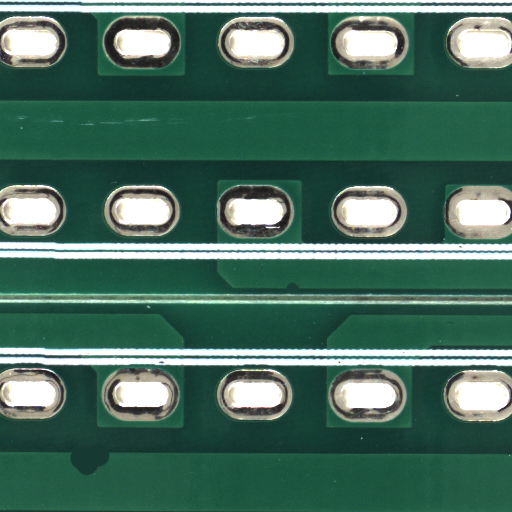Mouse_bite: (89, 462, 129, 490), (292, 286, 307, 295)
